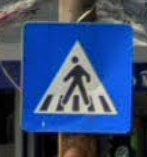trecere_pietoni: (20, 16, 133, 136)
